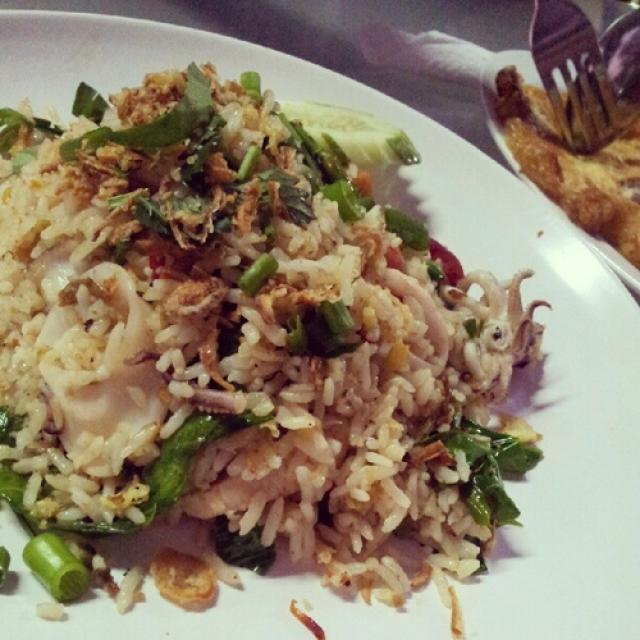米饭主食: (13, 52, 521, 616)
